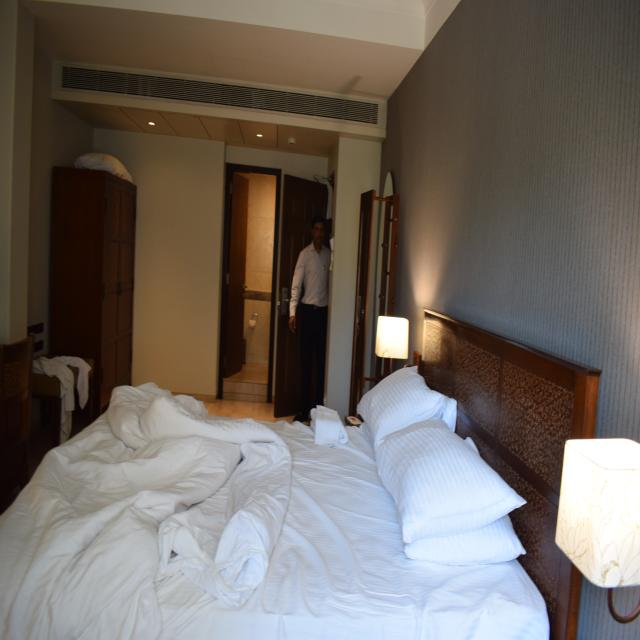mess: (66, 397, 527, 626), (26, 331, 103, 414)
